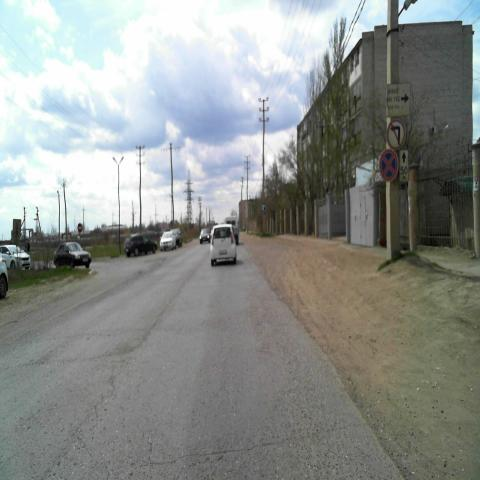3_18_2: (387, 118, 405, 150)
8_2_2: (399, 148, 409, 182)
